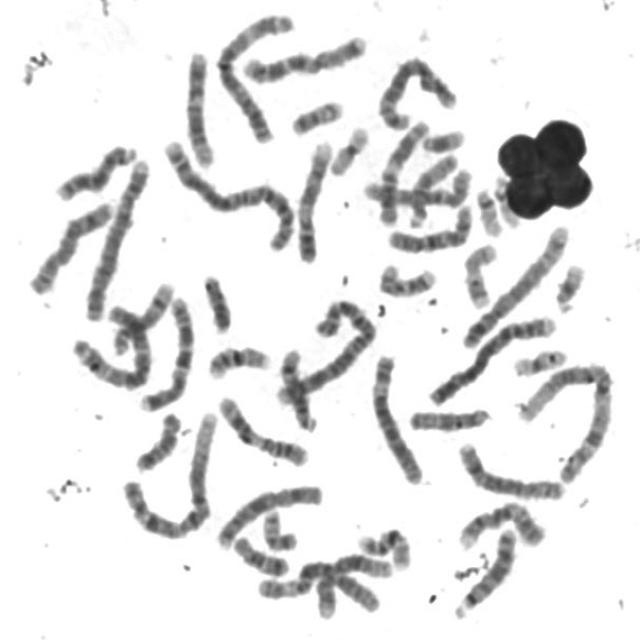A1: (511, 353, 620, 485), (118, 404, 222, 542)
A2: (158, 131, 299, 254), (272, 292, 381, 409)
A3: (211, 5, 297, 144), (68, 296, 155, 391)
B4: (422, 308, 562, 408), (80, 150, 154, 324)
B5: (458, 216, 574, 352), (374, 49, 462, 132)
C10: (368, 160, 474, 214), (382, 198, 477, 256)
C11: (213, 390, 314, 469), (374, 113, 433, 228)
C12: (312, 547, 395, 621), (182, 44, 220, 170)
C6: (366, 346, 428, 486), (253, 552, 388, 616)
C7: (134, 291, 199, 414), (237, 27, 371, 85)
C8: (23, 192, 119, 296), (454, 436, 570, 503)
C9: (292, 135, 337, 265), (454, 495, 551, 551)
D13: (448, 521, 520, 620), (51, 137, 141, 203)
D14: (107, 274, 179, 356), (276, 342, 321, 434)
D15: (403, 147, 461, 229), (404, 400, 494, 433)
E16: (203, 338, 274, 381), (354, 522, 415, 572)
E17: (460, 237, 501, 311), (374, 257, 441, 300)
E18: (132, 406, 186, 474), (229, 529, 293, 578)
F19: (325, 119, 373, 177), (508, 342, 571, 378)
F20: (287, 93, 348, 137), (257, 503, 302, 552)
G21: (550, 256, 589, 316), (418, 122, 468, 155)
G22: (486, 168, 520, 232), (472, 182, 506, 238)
X: (211, 477, 326, 551)
Y: (198, 267, 236, 335)
